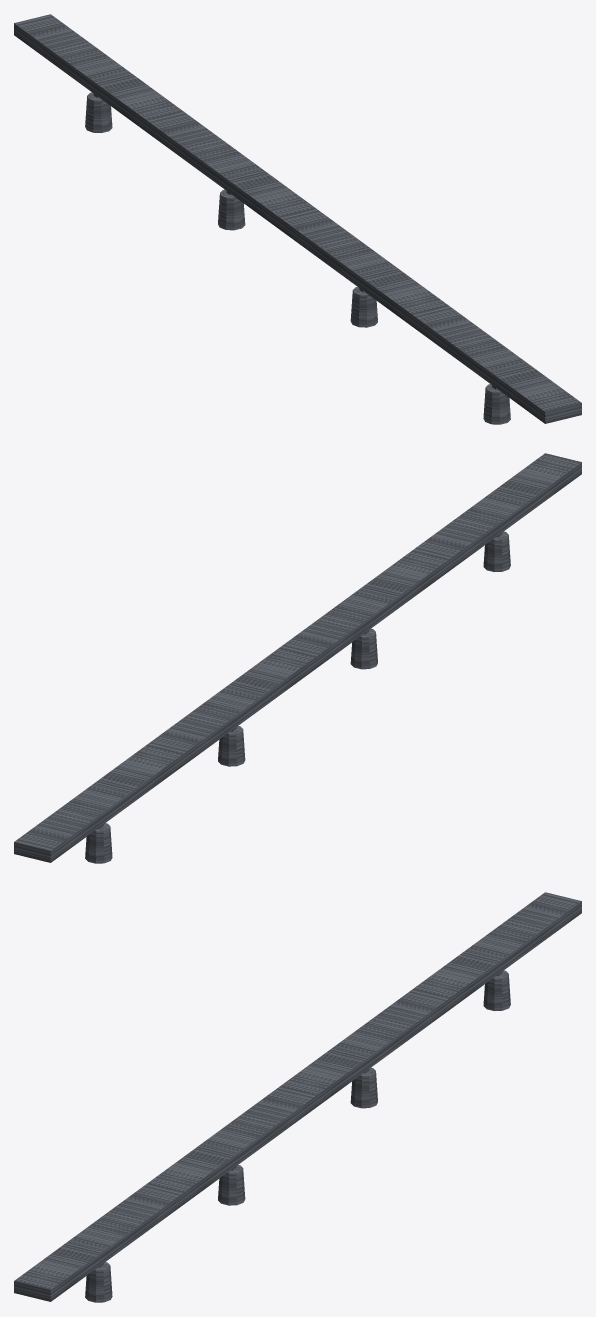
File: spot_track.fbx
3 renders of one model, top to bottom at view 1: azimuth 30°, elevation 25°; view 2: azimuth 150°, elevation 25°; view 3: azimuth 330°, elevation 25°, orthographic.
Visible parts, largest first — view 1: spot_track; view 2: spot_track; view 3: spot_track.
Boxes of the visible parts, bbox=[...] form: spot_track: bbox=[14, 14, 581, 424]; spot_track: bbox=[14, 453, 581, 863]; spot_track: bbox=[14, 892, 581, 1302].
Bounding box in the file's own units: 16 × 25 × 400.
